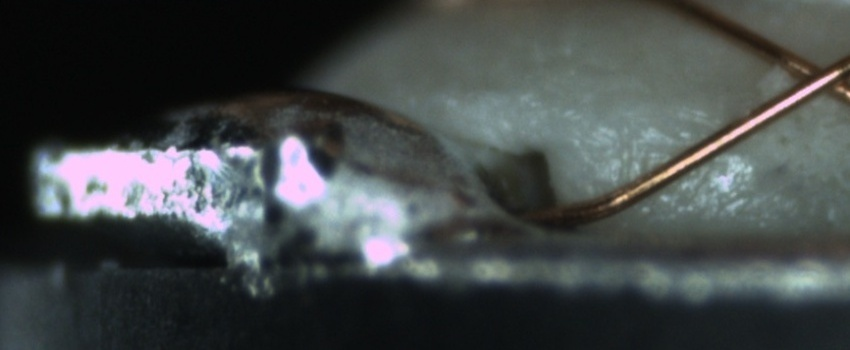CL: (766, 40, 850, 110)
